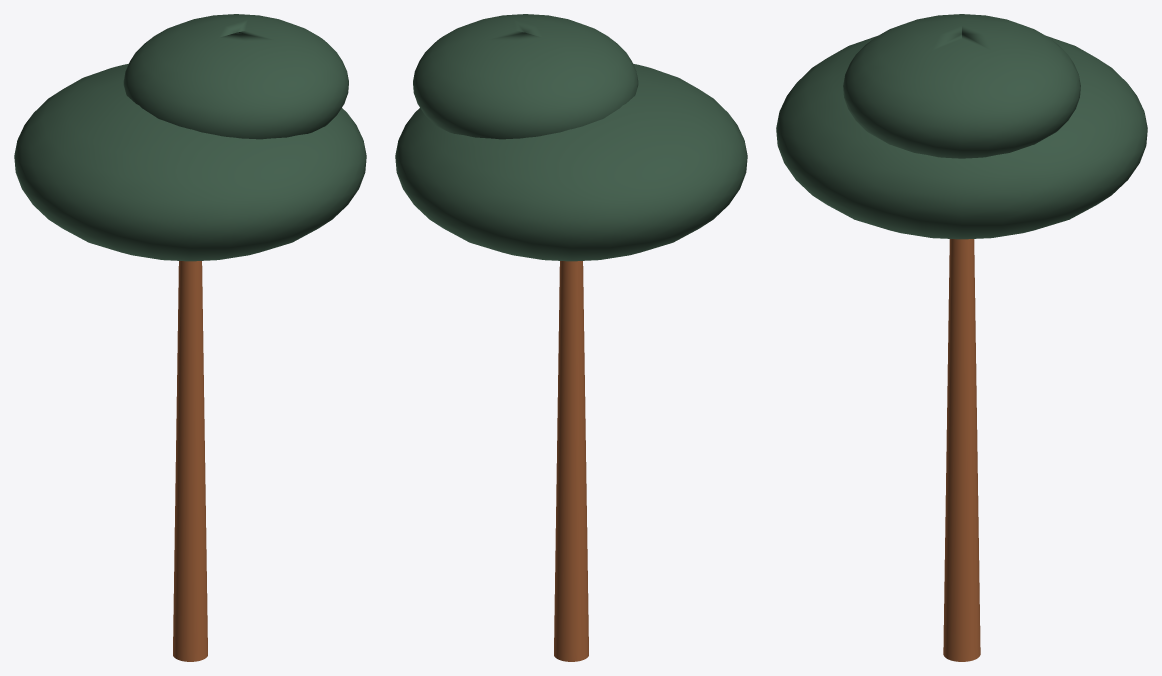
File: e08-scots-pine.glb
The picture shows the model from 3 angles, left to right: view 1: azimuth 30°, elevation 25°; view 2: azimuth 150°, elevation 25°; view 3: azimuth 270°, elevation 25°; orthographic projection. The views are drawn at different scales.
Visible parts, largest first — view 1: part1, part2, part0; view 2: part1, part2, part0; view 3: part1, part2, part0.
Part boxes in pixels (x1,y1,x2,y2): part1: (14, 64, 366, 261); part2: (123, 14, 348, 139); part0: (173, 261, 207, 661); part1: (395, 64, 747, 261); part2: (413, 14, 638, 139); part0: (554, 261, 588, 661); part1: (776, 36, 1147, 239); part2: (843, 14, 1080, 158); part0: (943, 239, 980, 661).
Bounding box in the file's own units: 9999 × 19100 × 9992.
